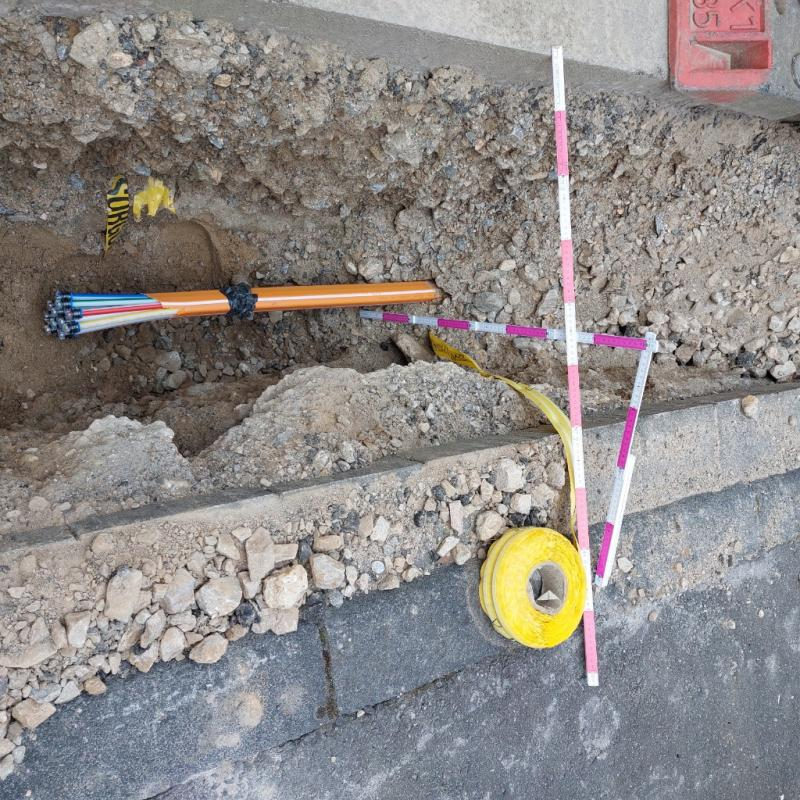Orang-Speednetrohrchen: (42, 281, 432, 345)
